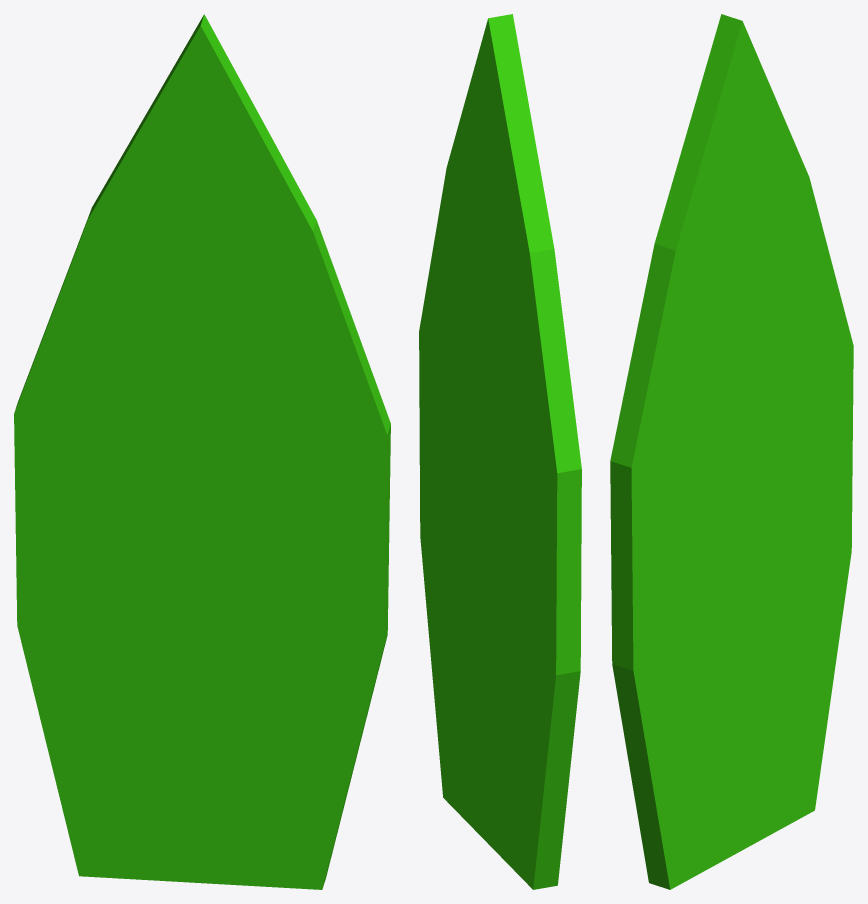
Rendered from Rigged Grass Export 75.fbx.
3 renders of one model, left to right at view 1: azimuth 30°, elevation 25°; view 2: azimuth 150°, elevation 25°; view 3: azimuth 270°, elevation 25°, orthographic. The views are drawn at different scales.
Parts seen in each view (by area): view 1: Grass 2 Right Right 3; view 2: Grass 2 Right Right 3; view 3: Grass 2 Right Right 3.
Boxes of the visible parts, box(x1,y1,x2,y2) form: Grass 2 Right Right 3: box(14, 14, 390, 889); Grass 2 Right Right 3: box(419, 14, 581, 889); Grass 2 Right Right 3: box(610, 14, 853, 889).
Size of the model in its own units: 118 by 353 by 93.87.
